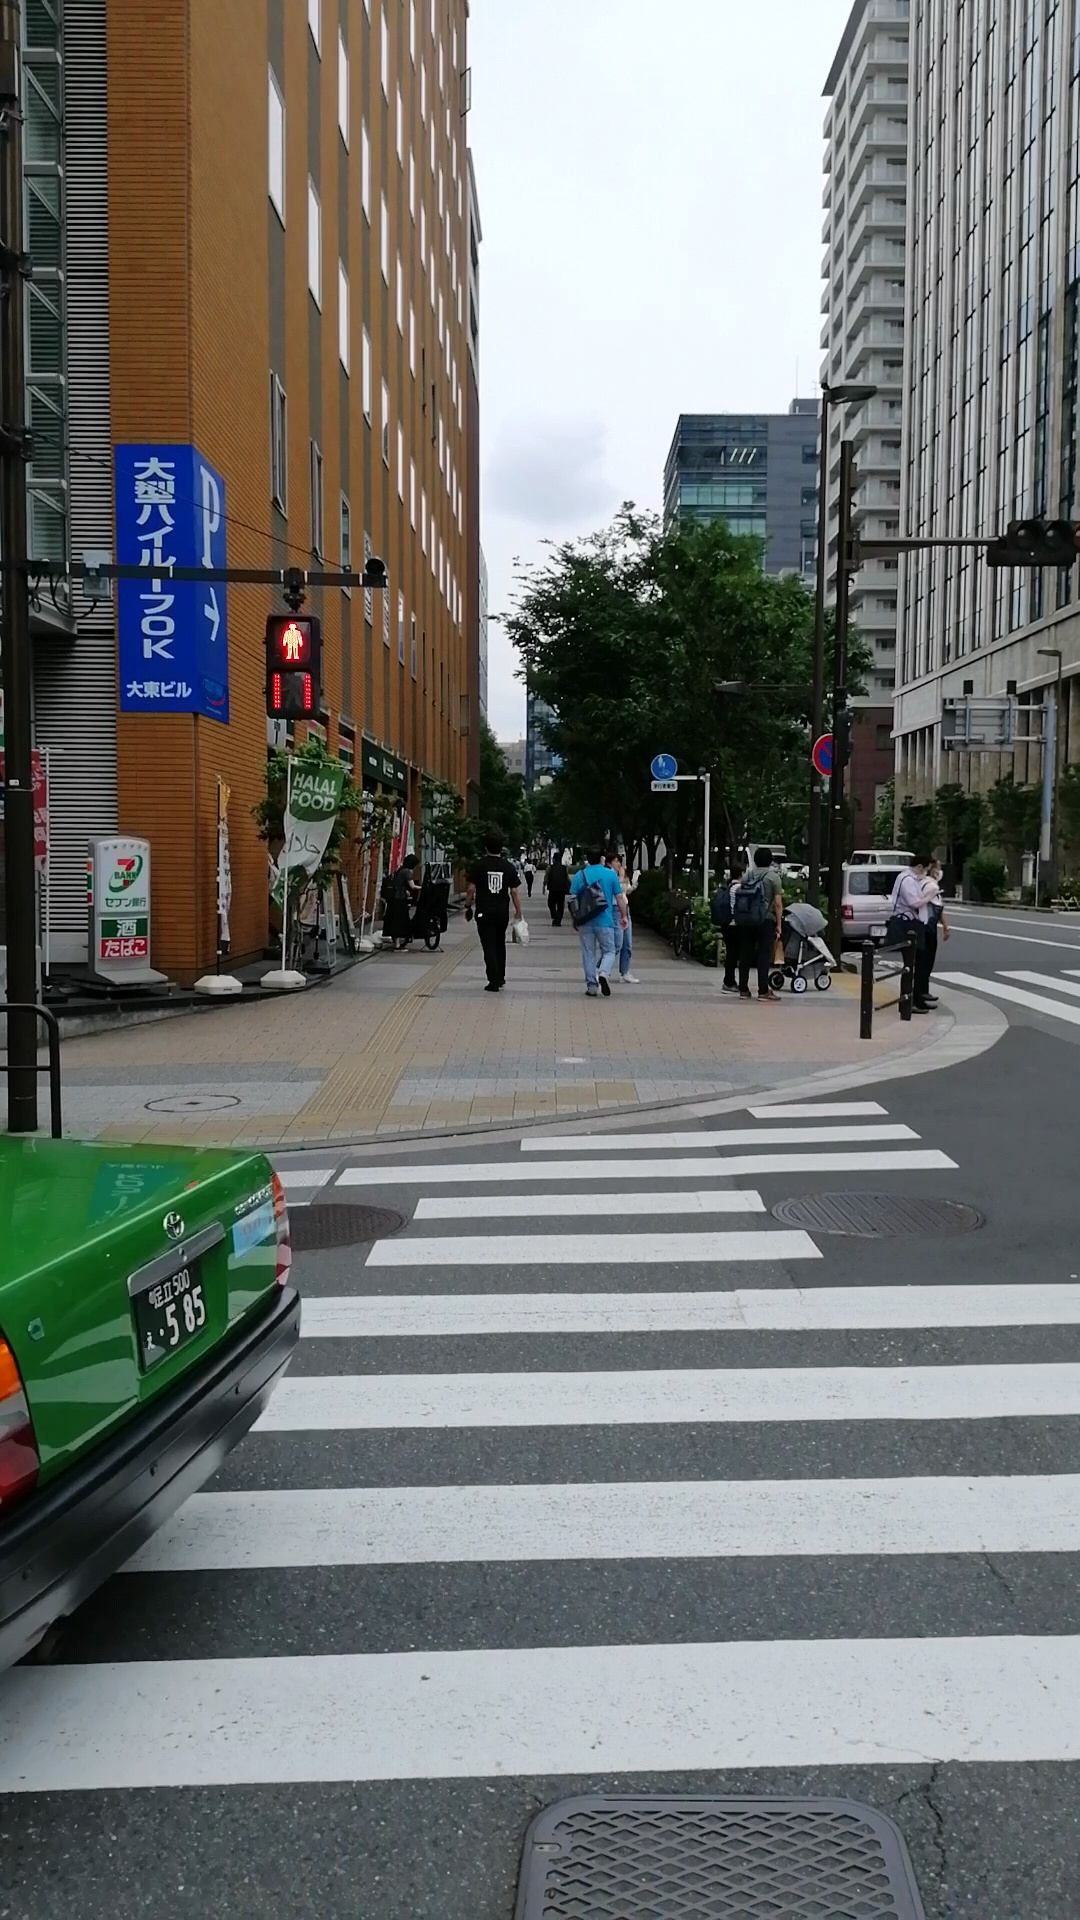red: (265, 613, 324, 717)
